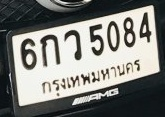num6: (19, 37, 37, 71)
txt01: (39, 34, 63, 69)
txt32: (63, 29, 83, 61)
